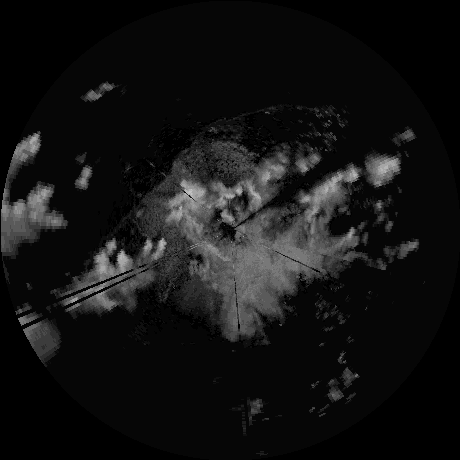frontgust: (217, 103, 342, 149)
